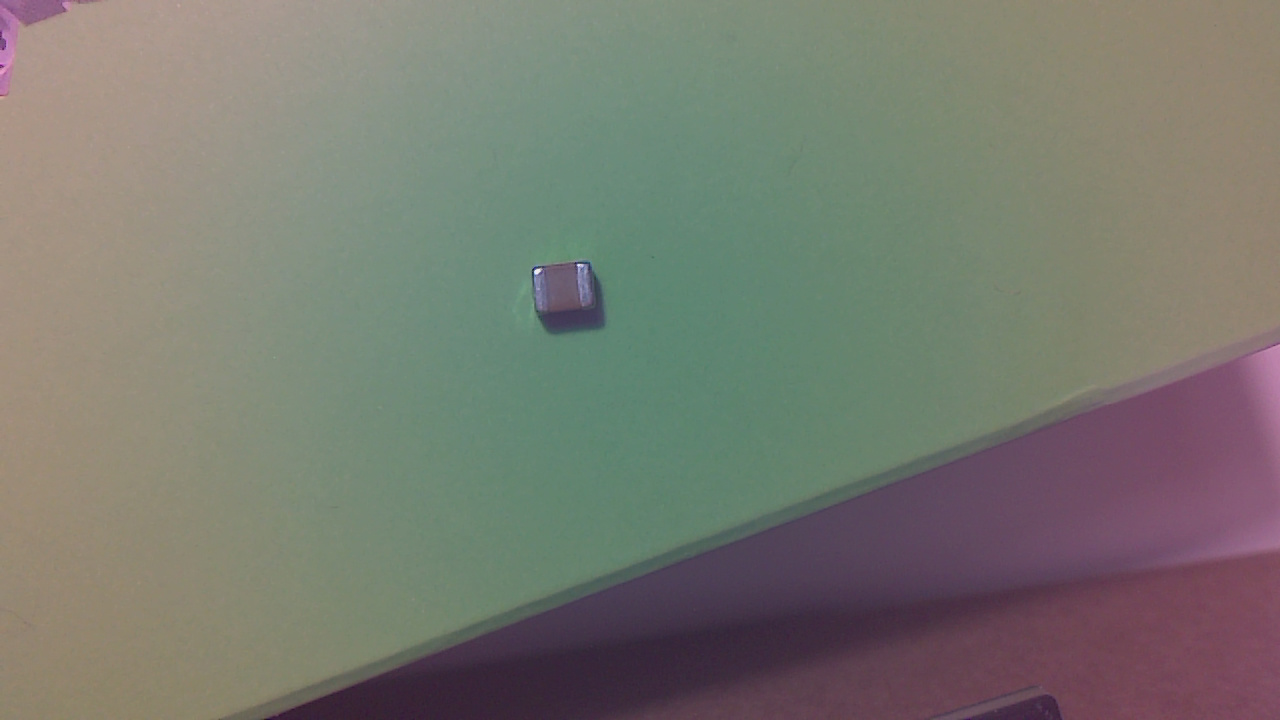Condensator: (538, 264, 603, 328)
